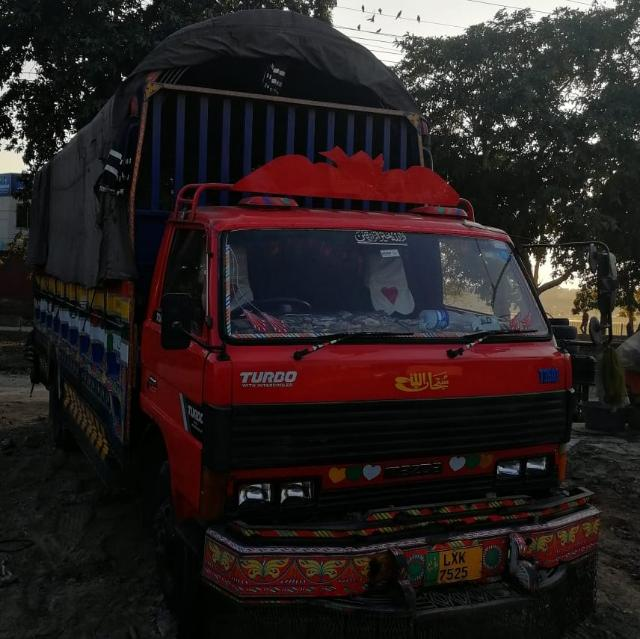plate: (408, 537, 494, 587)
